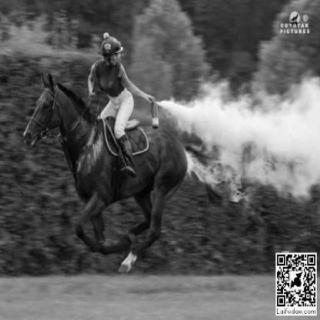Fire: (182, 136, 310, 212)
